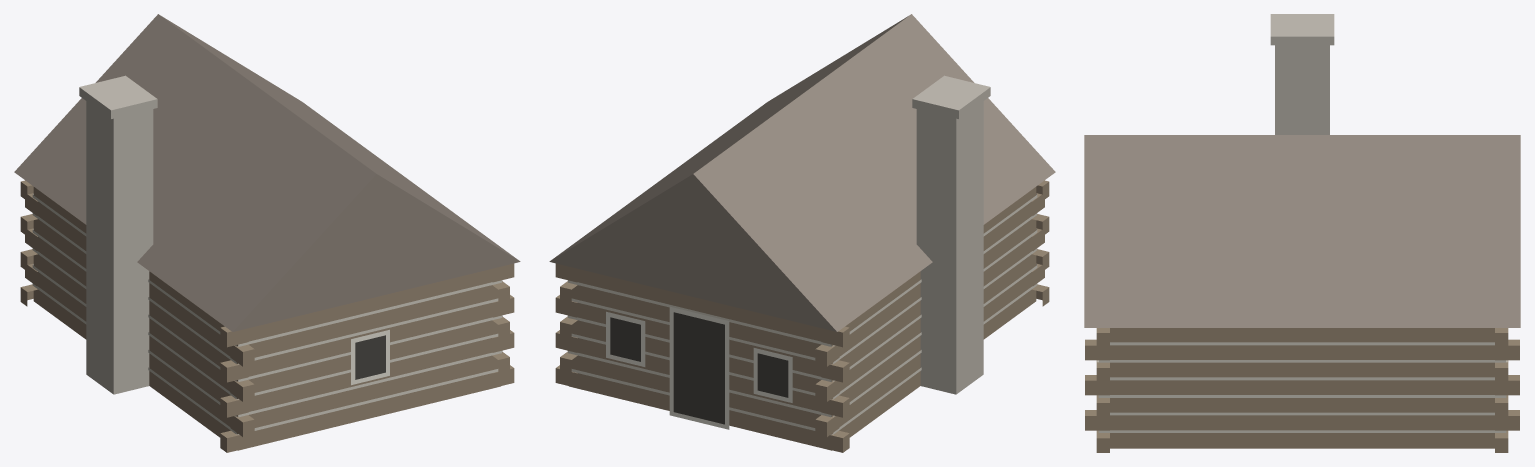
The model's file is recon_1835_blk_lake_clark_d1_01__inferred_1835.glb.
3 views of the same model, side by side, from view 1: azimuth 30°, elevation 25°; view 2: azimuth 150°, elevation 25°; view 3: azimuth 270°, elevation 25° (orthographic).
Visible parts, largest first — view 1: recon_1835_blk_lake_clark_d1_01__inferred_1835; view 2: recon_1835_blk_lake_clark_d1_01__inferred_1835; view 3: recon_1835_blk_lake_clark_d1_01__inferred_1835.
Part boxes in pixels (box(x1,y1,x2,y2)): recon_1835_blk_lake_clark_d1_01__inferred_1835: box(14, 14, 520, 452); recon_1835_blk_lake_clark_d1_01__inferred_1835: box(549, 14, 1055, 452); recon_1835_blk_lake_clark_d1_01__inferred_1835: box(1084, 14, 1520, 452).
Bounding box in the file's own units: 6.4 × 5.61 × 7.65.
